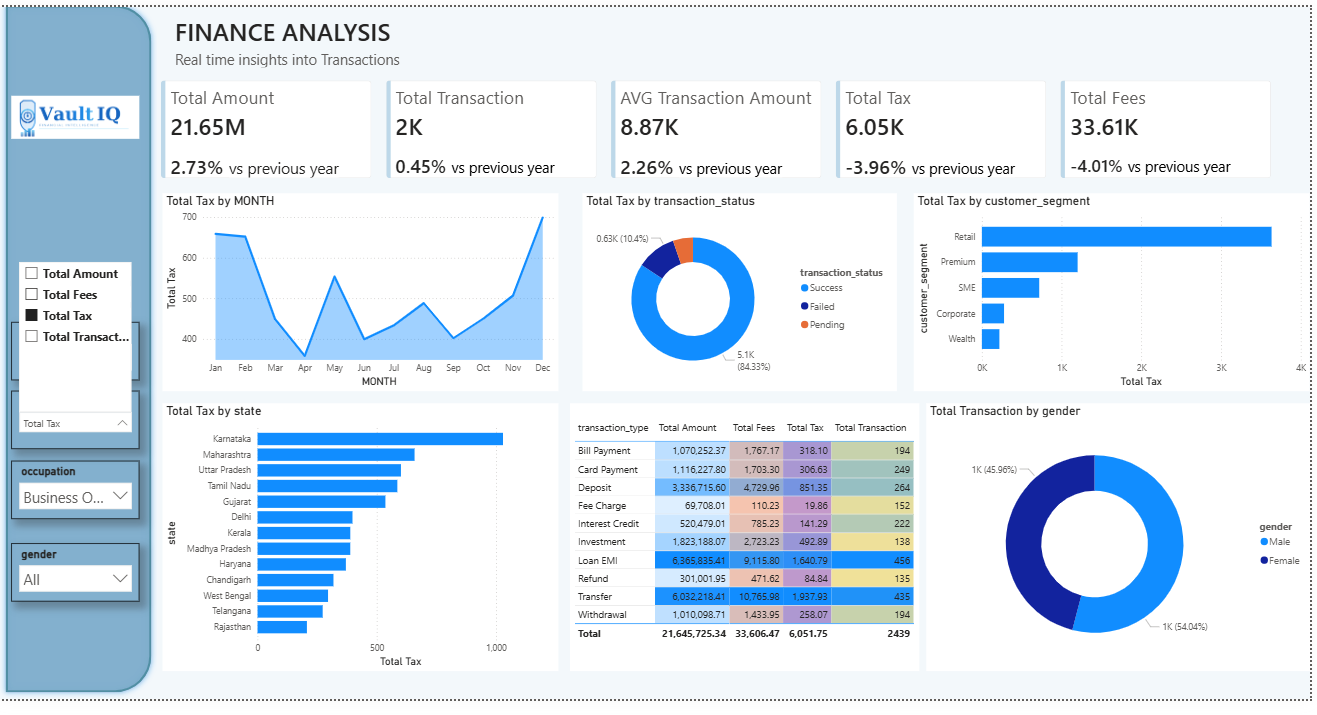

The page's visual inventory and layout, read from the dashboard file:
{"tool":"powerbi","page":{"name":"Page 1","canvas":[1800,950],"ordinal":0},"visuals":[{"type":"shape","box":[0,-10,216,960],"z":0},{"type":"cardVisual","fields":{"Data":["calendar table.DASHBOARD TITLE"]},"box":[216,0,384,96],"z":1000},{"type":"cardVisual","fields":{"Data":["finance_transactions.Total Amount","finance_transactions.Total Transaction","finance_transactions.AVG Transaction Amount","finance_transactions.Total Tax","finance_transactions.Total Fees"]},"box":[216,96,1536,144],"z":2000},{"type":"slicer","fields":{"Values":["calendar table.YEAR"]},"box":[16,432,176,80],"z":3000},{"type":"areaChart","fields":{"Y":["finance_transactions.Total Transaction"],"Category":["calendar table.MONTH"]},"box":[224,256,544,272],"z":4000},{"type":"donutChart","fields":{"Y":["finance_transactions.Total Transaction"],"Category":["finance_transactions.transaction_status"]},"box":[800,256,432,272],"z":5000},{"type":"barChart","fields":{"Y":["finance_transactions.Total Transaction"],"Category":["customers.customer_segment"]},"box":[1256,256,544,272],"z":6000},{"type":"slicer","fields":{"Values":["Dynamic metric.Dynamic metric"]},"box":[16,528,176,80],"z":7000},{"type":"barChart","fields":{"Y":["finance_transactions.Total Transaction"],"Category":["customers.state"]},"box":[224,544,544,368],"z":8000},{"type":"tableEx","fields":{"Values":["finance_transactions.transaction_type","finance_transactions.Total Amount","finance_transactions.Total Fees","finance_transactions.Total Tax","finance_transactions.Total Transaction"]},"box":[784,544,480,368],"z":9000},{"type":"donutChart","fields":{"Category":["customers.gender"],"Y":["finance_transactions.Total Transaction"]},"box":[1272,544,528,368],"z":10000},{"type":"slicer","fields":{"Values":["customers.occupation"]},"box":[16,624,176,80],"z":11000},{"type":"slicer","fields":{"Values":["customers.gender"]},"box":[16,736,176,80],"z":12000},{"type":"image","box":[16,64,176,176],"z":13000}]}

Visuals, with their boxes in screenshot pixels (x1, y1, x2, y2), scaled from the page's 1800x950 canvas onto the 1317x715 screenshot:
shape: region(0, 0, 158, 714)
cardVisual - calendar table.DASHBOARD TITLE: region(158, 0, 439, 72)
cardVisual - finance_transactions.Total Amount x finance_transactions.Total Transaction: region(158, 72, 1282, 181)
slicer - calendar table.YEAR: region(12, 325, 140, 385)
areaChart - finance_transactions.Total Transaction x calendar table.MONTH: region(164, 193, 562, 397)
donutChart - finance_transactions.Total Transaction x finance_transactions.transaction_status: region(585, 193, 901, 397)
barChart - finance_transactions.Total Transaction x customers.customer_segment: region(919, 193, 1316, 397)
slicer - Dynamic metric.Dynamic metric: region(12, 397, 140, 458)
barChart - finance_transactions.Total Transaction x customers.state: region(164, 409, 562, 686)
tableEx - finance_transactions.transaction_type x finance_transactions.Total Amount: region(574, 409, 925, 686)
donutChart - customers.gender x finance_transactions.Total Transaction: region(931, 409, 1316, 686)
slicer - customers.occupation: region(12, 470, 140, 530)
slicer - customers.gender: region(12, 554, 140, 614)
image: region(12, 48, 140, 181)
